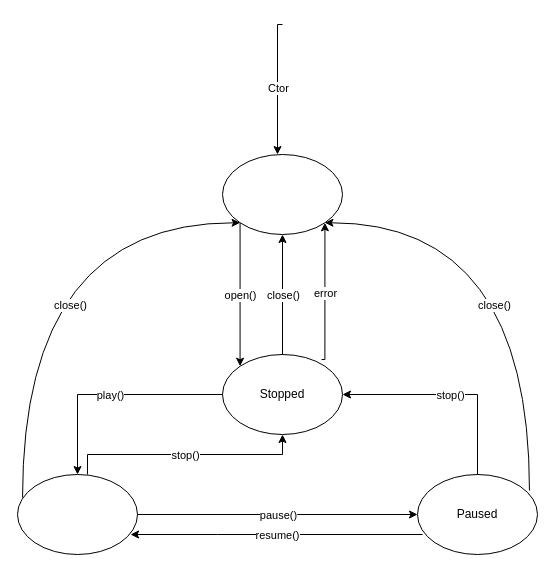
The diagram is 555 pixels wide and 572 high, and some of its shapes have lost their labels. Here are the shapes that lost their labels. From the top down, the box of each, then its label:
(222, 154, 342, 234): Close
(16, 474, 138, 554): Playing
